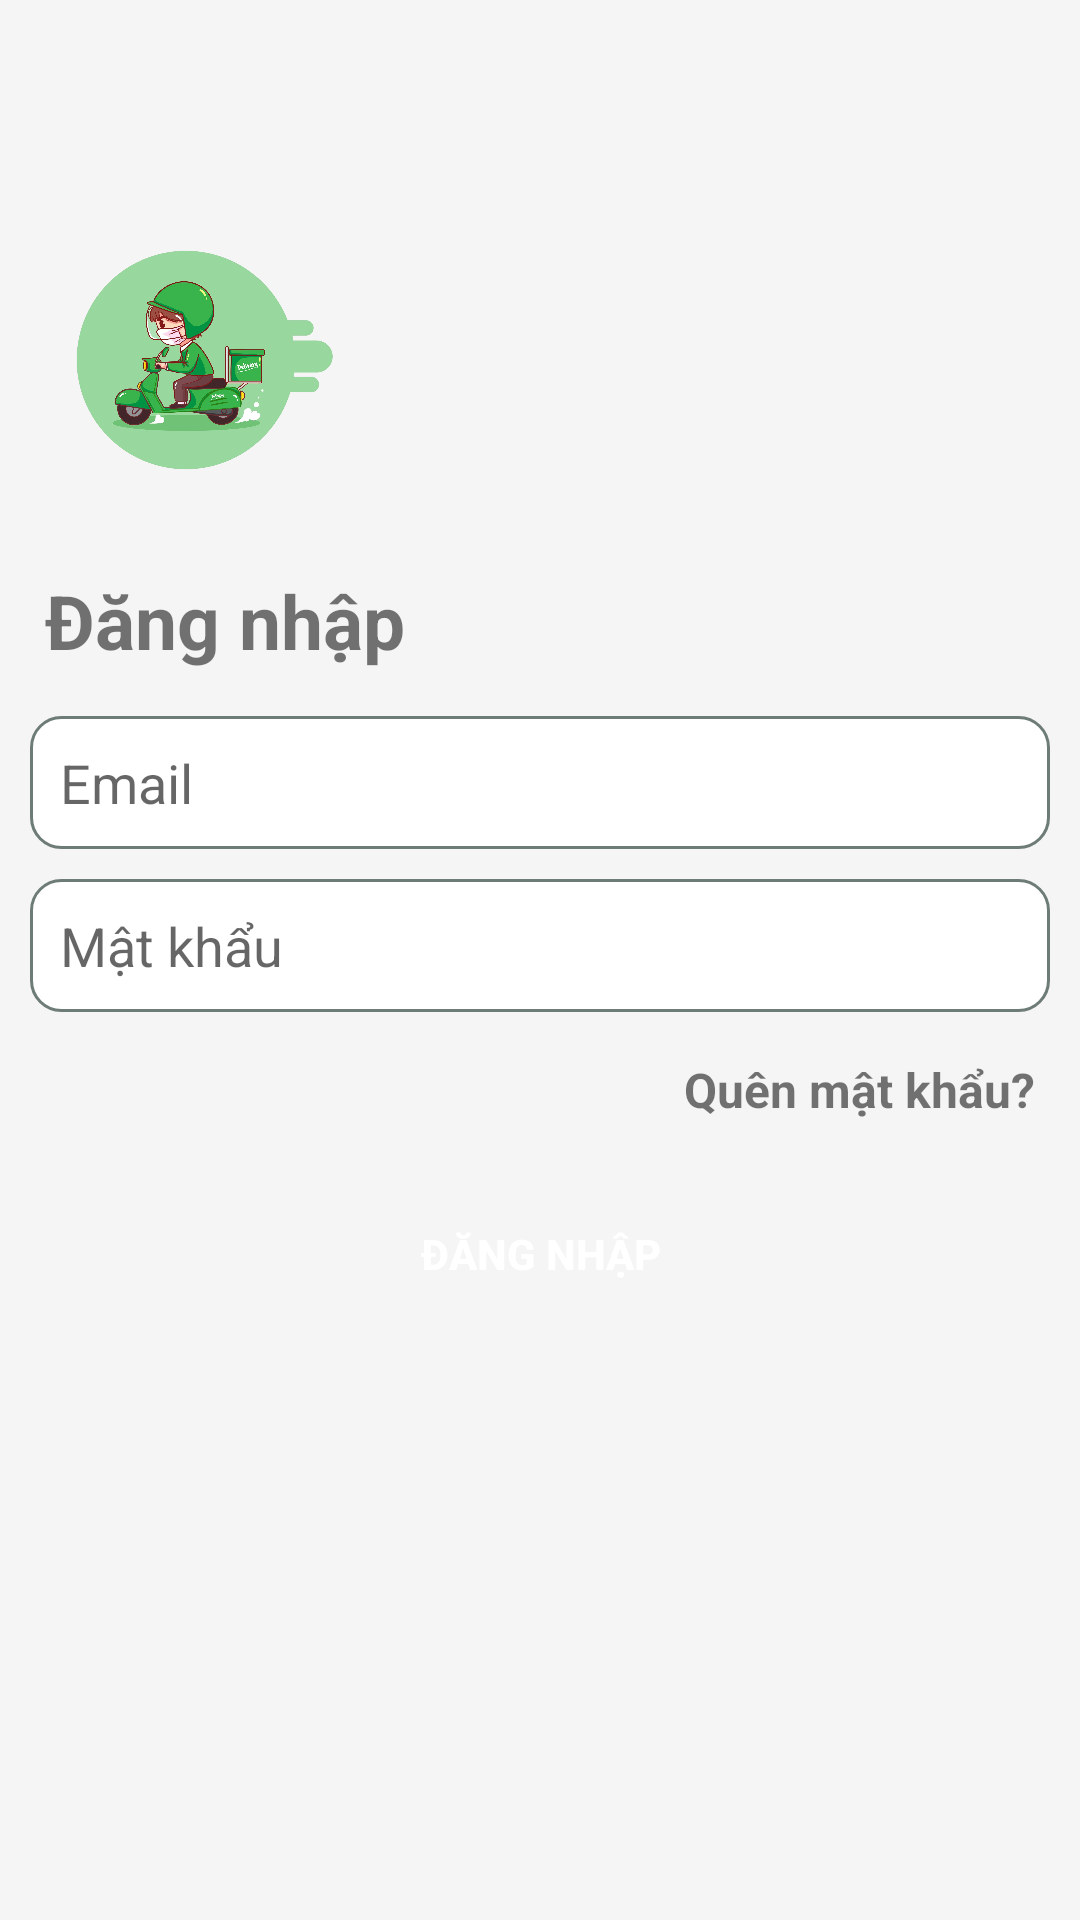

Where to tap for icons on this 1080x1920 app screen, as [x,y]:
delivery: [205,360]
